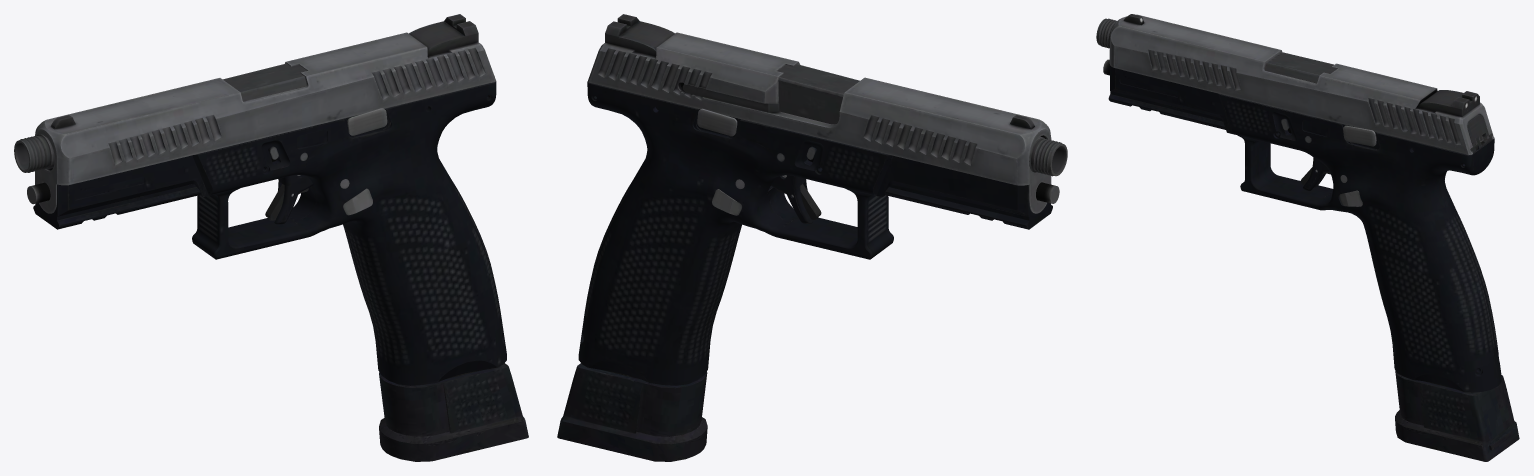
File: weapon_czp10f.glb
3 renders of one model, left to right at view 1: azimuth 30°, elevation 25°; view 2: azimuth 150°, elevation 25°; view 3: azimuth 330°, elevation 25°, orthographic. The views are drawn at different scales.
Parts seen in each view (by area): view 1: main_frame_czp10f, slide_czp10f, magazine_czp10f, chamber_czp10f, rear_sight_czp10f, trigger_czp10f; view 2: main_frame_czp10f, slide_czp10f, magazine_czp10f, chamber_czp10f, rear_sight_czp10f, trigger_czp10f; view 3: main_frame_czp10f, slide_czp10f, magazine_czp10f, chamber_czp10f, rear_sight_czp10f, trigger_czp10f.
Boxes of the visible parts, <box> form: main_frame_czp10f: <box>33,81,506,385</box>; slide_czp10f: <box>35,32,495,213</box>; magazine_czp10f: <box>379,363,528,461</box>; chamber_czp10f: <box>14,63,306,172</box>; rear_sight_czp10f: <box>409,14,478,55</box>; trigger_czp10f: <box>265,175,313,224</box>; main_frame_czp10f: <box>578,81,1052,385</box>; slide_czp10f: <box>588,32,1051,213</box>; magazine_czp10f: <box>557,363,707,461</box>; chamber_czp10f: <box>777,64,1067,176</box>; rear_sight_czp10f: <box>605,14,674,56</box>; trigger_czp10f: <box>771,175,821,223</box>; main_frame_czp10f: <box>1108,65,1501,392</box>; slide_czp10f: <box>1109,14,1494,154</box>; magazine_czp10f: <box>1395,370,1519,461</box>; chamber_czp10f: <box>1096,18,1336,83</box>; rear_sight_czp10f: <box>1417,90,1479,116</box>; trigger_czp10f: <box>1300,157,1330,191</box>.
Size of the model in its own units: 25.07 by 20.4 by 3.65.
Materials: 2 (2 with a texture image).
